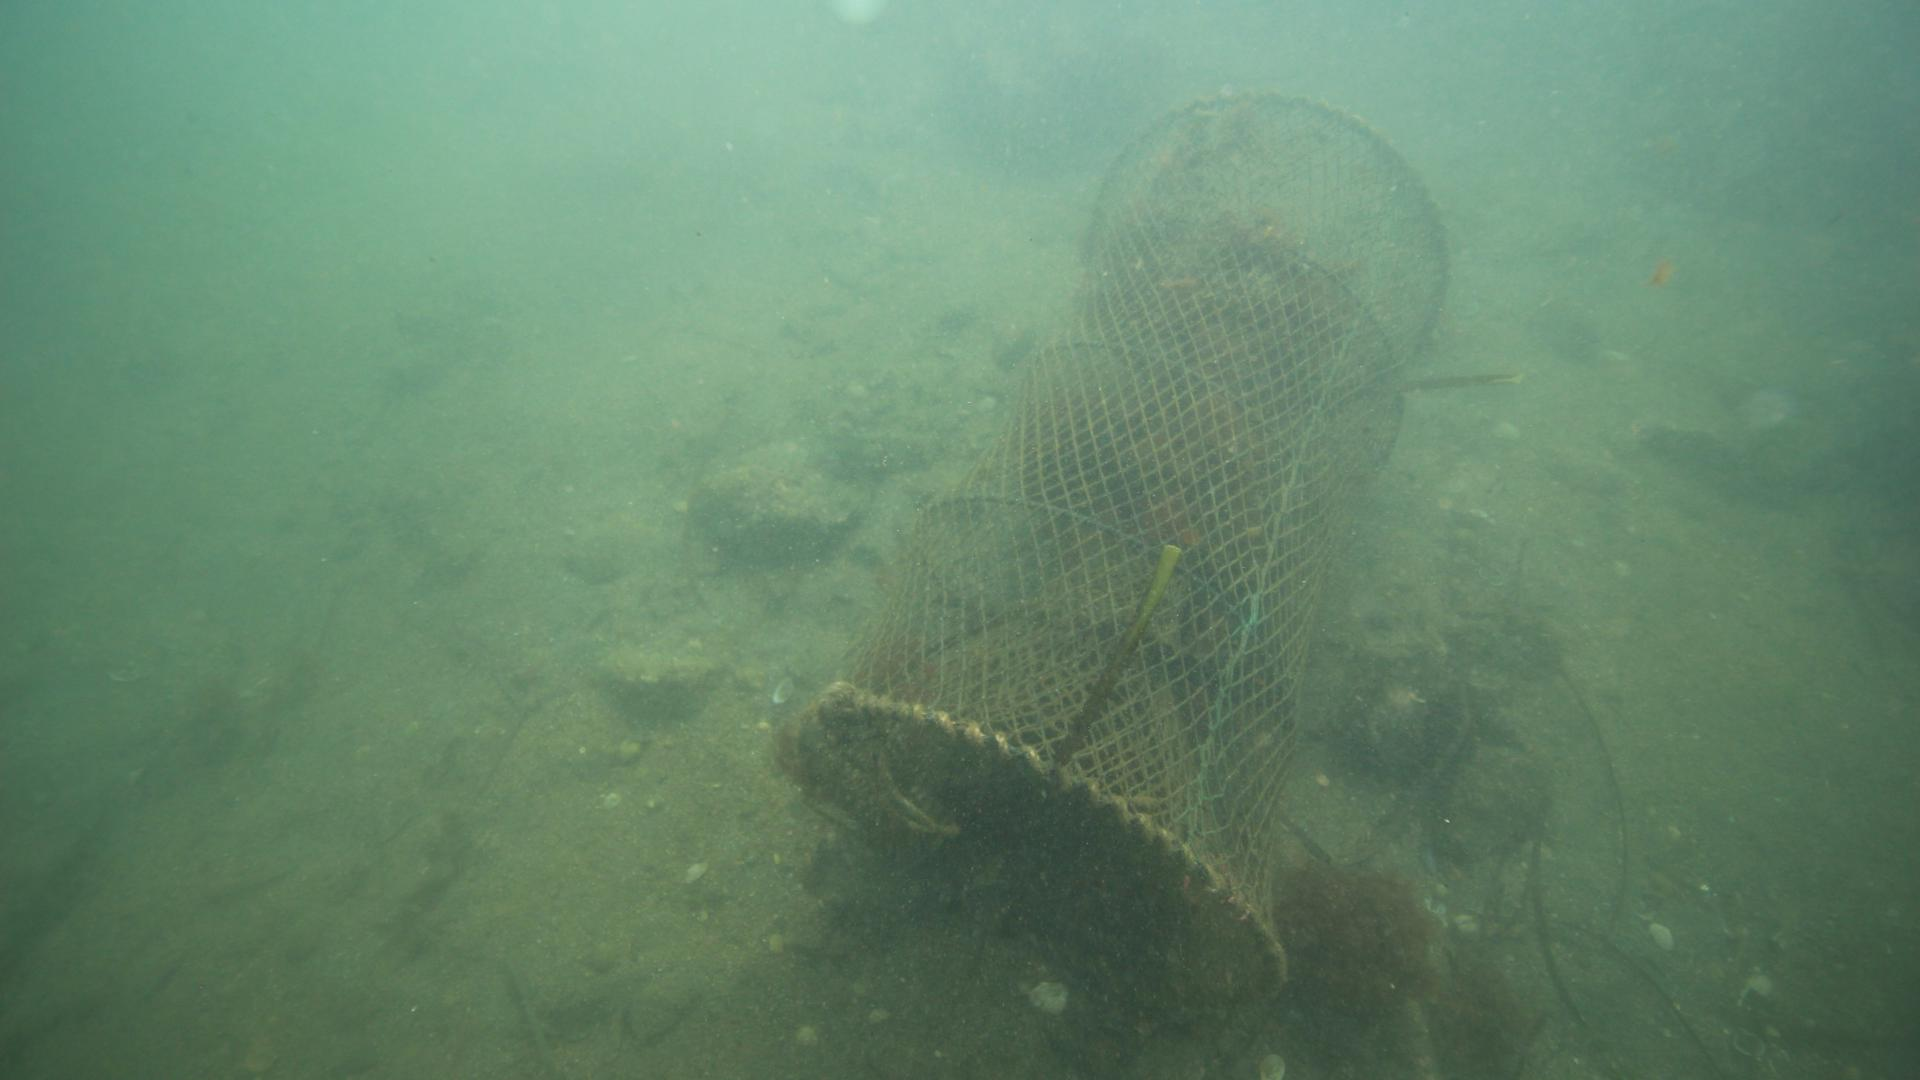spring fish trap: (782, 87, 1452, 1018)
